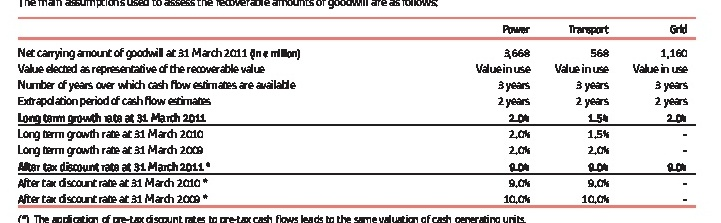table: (0, 0, 721, 223)
